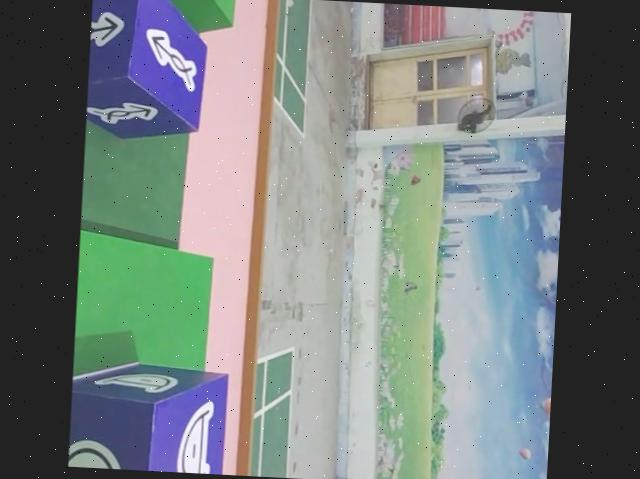R2 Real Blue: (68, 363, 230, 475), (85, 0, 209, 140)
